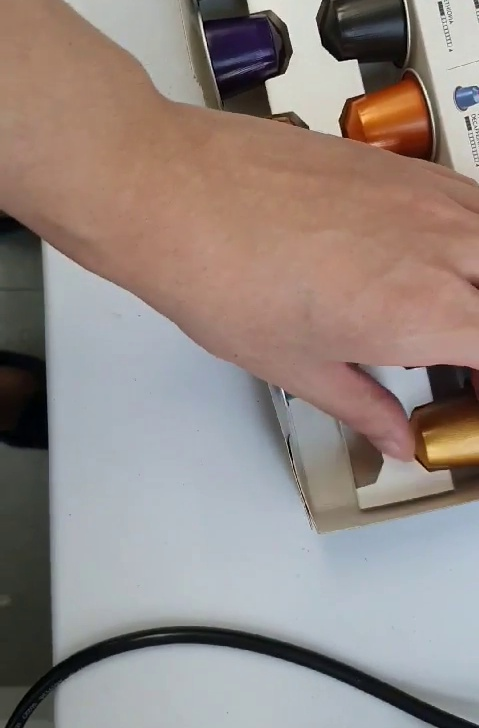capsule_8: (401, 385, 479, 476)
